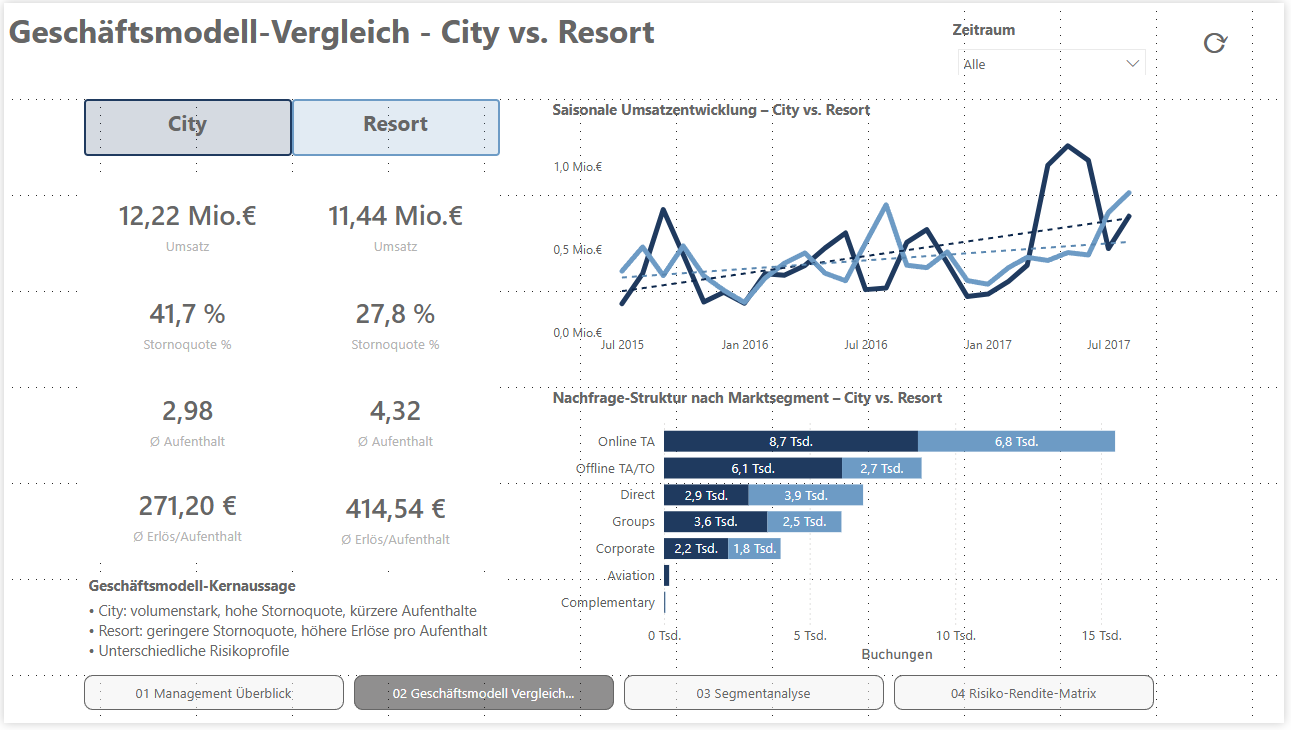

The page's visual inventory and layout, read from the dashboard file:
{"tool":"powerbi","page":{"name":"02 Geschäftsmodell Vergleich...","canvas":[1280,720],"ordinal":1},"visuals":[{"type":"textbox","box":[0,0,896,96],"z":0},{"type":"textbox","box":[80,96,208,57],"z":0,"group":"g1"},{"type":"cardVisual","fields":{"Data":["measure_tabelle.Umsatz (bereinigt)"]},"box":[80,173.3,208,97.7],"z":0,"group":"g2"},{"type":"textbox","title":"Geschäftsmodell-Kernaussage","box":[80,572.3,424,97.7],"z":0,"group":"g3"},{"type":"slicer","title":"Zeitraum","fields":{"Values":["dim_zeit.Jahr","dim_zeit.Monat"]},"box":[944,16,208,56],"z":1000},{"type":"group","id":"g1","title":"Gruppe 2","box":[80,96,416,468.2],"z":1000,"group":"g3"},{"type":"textbox","box":[288,96,208,57],"z":1000,"group":"g1"},{"type":"cardVisual","fields":{"Data":["measure_tabelle.Umsatz (bereinigt)"]},"box":[288,173.3,208,97.7],"z":1000,"group":"g2"},{"type":"group","id":"g2","title":"Gruppe 1","box":[80,173.3,416,390.8],"z":2000,"group":"g1"},{"type":"cardVisual","fields":{"Data":["measure_tabelle.Stornoquote %"]},"box":[80,271,208,97.7],"z":2000,"group":"g2"},{"type":"cardVisual","fields":{"Data":["measure_tabelle.Ø Erlös/Aufenthalt (bereinigt)"]},"box":[80,464,208,96],"z":2000},{"type":"group","id":"g3","title":"Gruppe 3","box":[80,96,424,574],"z":3000},{"type":"lineChart","title":"Saisonale Umsatzentwicklung – City vs. Resort","fields":{"Category":["dim_zeit.JahrMonat"],"Y":["measure_tabelle.Umsatz (bereinigt)"],"Series":["dim_hoteltyp.hoteltyp"]},"box":[544,96,608,264],"z":3000,"group":"g4"},{"type":"cardVisual","fields":{"Data":["measure_tabelle.Stornoquote %"]},"box":[288,271,208,97.7],"z":3000,"group":"g2"},{"type":"actionButton","title":"Reset","box":[1160,16,104,40],"z":4000},{"type":"cardVisual","fields":{"Data":["measure_tabelle.Avg_Aufenthalt"]},"box":[80,368.7,208,97.7],"z":4000,"group":"g2"},{"type":"barChart","title":"Nachfrage-Struktur nach Marktsegment – City vs. Resort","fields":{"Category":["dim_marktsegment.marktsegment"],"Y":["measure_tabelle.Buchungen (bereinigt, nicht storniert)"],"Series":["dim_hoteltyp.hoteltyp"]},"box":[544,384,608,280],"z":4000,"group":"g4"},{"type":"cardVisual","fields":{"Data":["measure_tabelle.Avg_Aufenthalt"]},"box":[288,368.7,208,97.7],"z":5000,"group":"g2"},{"type":"pageNavigator","box":[80,672,1072,35],"z":5000},{"type":"group","id":"g4","title":"Gruppe 4","box":[544,96,608,568],"z":6000},{"type":"cardVisual","fields":{"Data":["measure_tabelle.Ø Erlös/Aufenthalt (bereinigt)"]},"box":[288,466.4,208,97.7],"z":6000,"group":"g2"}]}

Visuals, with their boxes in screenshot pixels (x1, y1, x2, y2), scaled from the page's 1280x720 canvas onto the 1291x730 screenshot:
textbox: 0 0 904 97
textbox: 81 97 290 155
cardVisual - measure_tabelle.Umsatz (bereinigt): 81 176 290 275
"Geschäftsmodell-Kernaussage" textbox: 81 580 508 679
"Zeitraum" slicer: 952 16 1162 73
"Gruppe 2" group: 81 97 500 572
textbox: 290 97 500 155
cardVisual - measure_tabelle.Umsatz (bereinigt): 290 176 500 275
"Gruppe 1" group: 81 176 500 572
cardVisual - measure_tabelle.Stornoquote %: 81 275 290 374
cardVisual - measure_tabelle.Ø Erlös/Aufenthalt (bereinigt): 81 470 290 568
"Gruppe 3" group: 81 97 508 679
"Saisonale Umsatzentwicklung – City vs. Resort" lineChart: 549 97 1162 365
cardVisual - measure_tabelle.Stornoquote %: 290 275 500 374
"Reset" actionButton: 1170 16 1275 57
cardVisual - measure_tabelle.Avg_Aufenthalt: 81 374 290 473
"Nachfrage-Struktur nach Marktsegment – City vs. Resort" barChart: 549 389 1162 673
cardVisual - measure_tabelle.Avg_Aufenthalt: 290 374 500 473
pageNavigator: 81 681 1162 717
"Gruppe 4" group: 549 97 1162 673
cardVisual - measure_tabelle.Ø Erlös/Aufenthalt (bereinigt): 290 473 500 572
